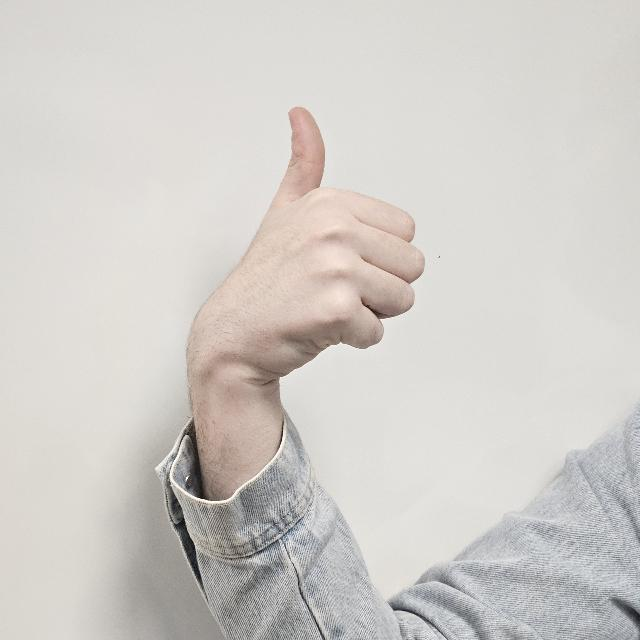Start: (257, 92, 431, 380)
